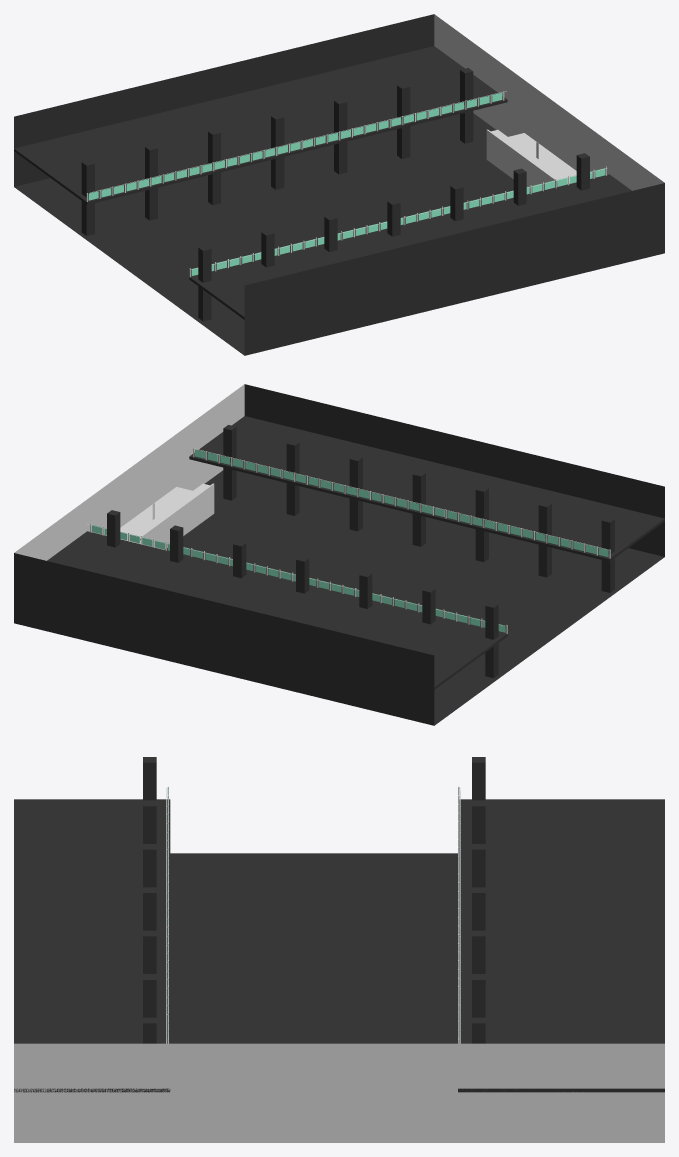
File: SceneTest1.fbx
The picture shows the model from 3 angles, top to bottom: view 1: azimuth 30°, elevation 25°; view 2: azimuth 150°, elevation 25°; view 3: azimuth 270°, elevation 25°; orthographic projection. The views are drawn at different scales.
Parts seen in each view (by area): view 1: Plane, Plane.004, Plane.003, Plane.006, Plane.002, Plane.005, Cube.003, Cube.002, Plane.008, Plane.001, Cube.004, Cube.005 (+2 smaller); view 2: Plane, Plane.006, Plane.002, Plane.003, Plane.004, Plane.005, Cube.002, Cube.003, Plane.001, Plane.008, Cube.004, Cube.005 (+3 smaller); view 3: Plane.005, Plane, Plane.003, Plane.002, Cube.002, Cube.003, Cube.004.
Part boxes in pixels (x1,y1,x2,y2): Plane: [14, 113, 530, 355]; Plane.004: [244, 183, 664, 355]; Plane.003: [14, 46, 507, 204]; Plane.006: [14, 14, 434, 186]; Plane.002: [189, 174, 664, 319]; Plane.005: [434, 14, 664, 190]; Cube.003: [81, 68, 473, 235]; Cube.002: [198, 153, 589, 321]; Plane.008: [88, 93, 502, 200]; Plane.001: [191, 168, 605, 275]; Cube.004: [486, 133, 576, 192]; Cube.005: [486, 129, 557, 187]; Plane: [165, 470, 664, 725]; Plane.006: [14, 553, 434, 725]; Plane.002: [189, 416, 664, 561]; Plane.003: [47, 531, 507, 689]; Plane.004: [244, 384, 664, 556]; Plane.005: [14, 384, 244, 560]; Cube.002: [223, 425, 614, 592]; Cube.003: [107, 510, 498, 678]; Plane.001: [195, 449, 608, 557]; Plane.008: [92, 525, 505, 632]; Cube.004: [120, 487, 214, 549]; Cube.005: [142, 483, 214, 545]; Plane.005: [14, 1043, 664, 1142]; Plane: [170, 853, 457, 1043]; Plane.003: [458, 799, 664, 1092]; Plane.002: [14, 799, 170, 1092]; Cube.002: [143, 757, 156, 1043]; Cube.003: [472, 757, 485, 1043]; Cube.004: [206, 1118, 410, 1142].
Bounding box in the file's own units: 5000 × 800 × 4752.
